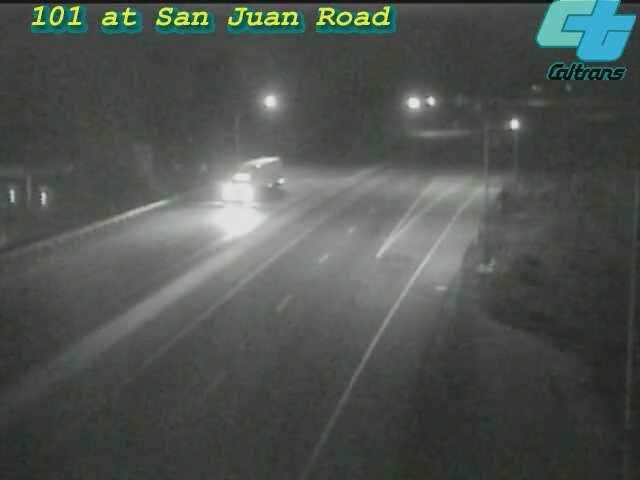vehicle: (210, 143, 290, 223), (489, 99, 539, 149)
